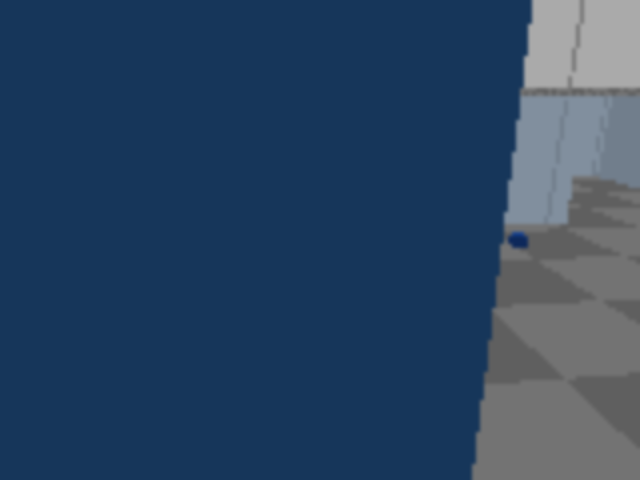puck: (504, 229, 534, 253)
